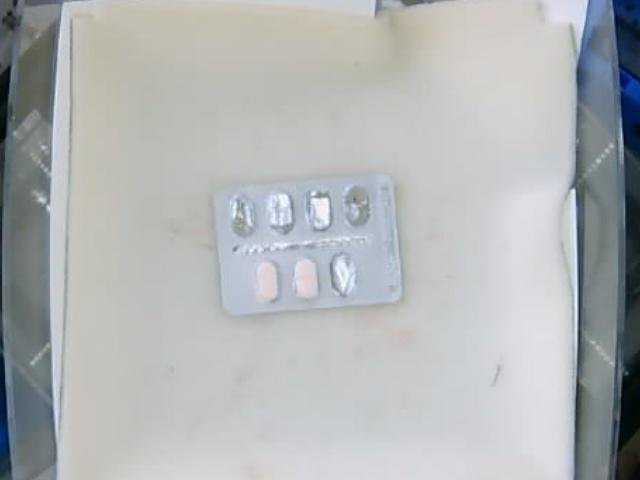Medicine: (213, 174, 404, 315)
